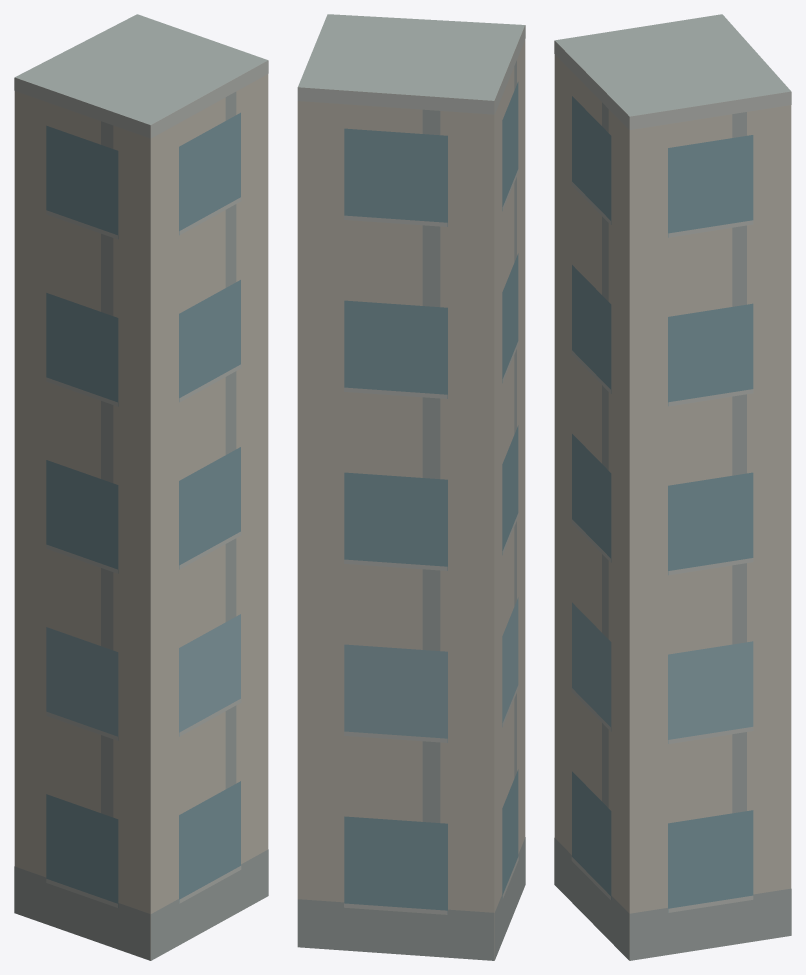
The model's file is survey-upis-32573447.glb.
3 renders of one model, left to right at view 1: azimuth 30°, elevation 25°; view 2: azimuth 150°, elevation 25°; view 3: azimuth 270°, elevation 25°, orthographic. The views are drawn at different scales.
Parts seen in each view (by area): view 1: survey-upis-32573447.tmp; view 2: survey-upis-32573447.tmp; view 3: survey-upis-32573447.tmp.
Boxes of the visible parts, bbox=[...] form: survey-upis-32573447.tmp: bbox=[14, 14, 268, 960]; survey-upis-32573447.tmp: bbox=[297, 14, 525, 960]; survey-upis-32573447.tmp: bbox=[554, 14, 791, 960].
Size of the model in its own units: 3.98 by 15.25 by 3.89.
